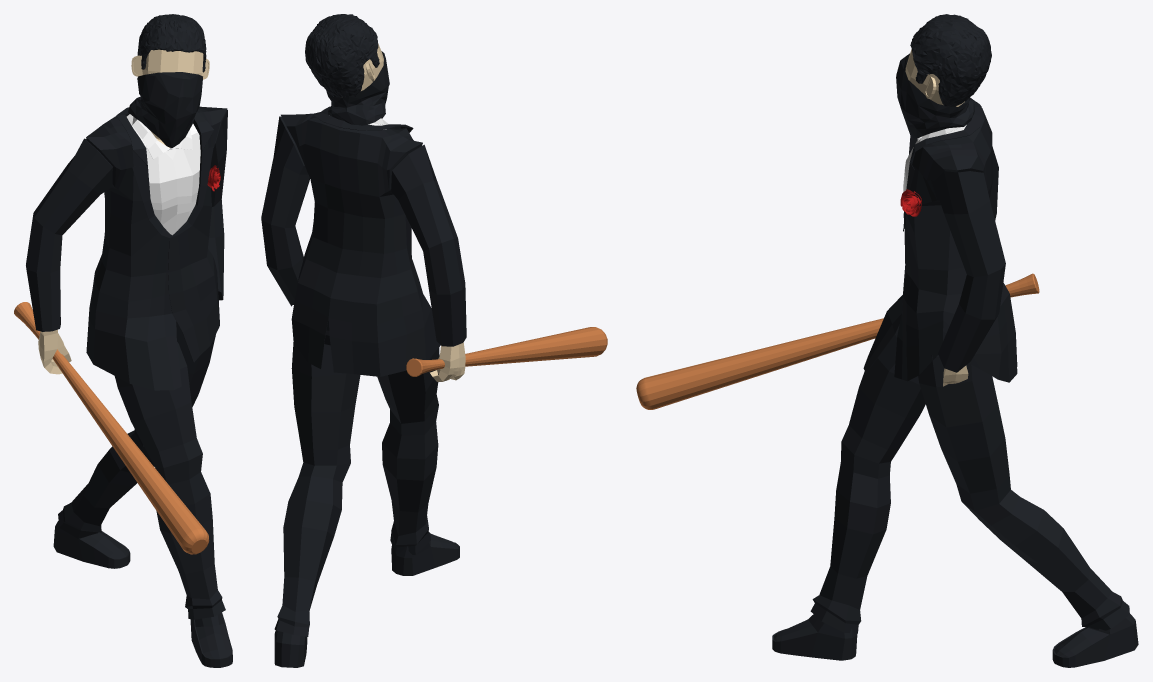
The picture shows the model from 3 angles, left to right: view 1: azimuth 30°, elevation 25°; view 2: azimuth 150°, elevation 25°; view 3: azimuth 270°, elevation 25°; orthographic projection. The views are drawn at different scales.
Parts seen in each view (by area): view 1: suit_Cube.014, Cube.012_Cube.016, head_hand_foot_Cube.013, Cylinder, shirt_Cube.015, mask_Cube.018, hair_Cube.019; view 2: suit_Cube.014, Cube.012_Cube.016, hair_Cube.019, head_hand_foot_Cube.013, Cylinder, mask_Cube.018; view 3: Cube.012_Cube.016, suit_Cube.014, Cylinder, head_hand_foot_Cube.013, hair_Cube.019, mask_Cube.018.
Part boxes in pixels (<box>): suit_Cube.014: <box>26,106,227,390</box>; Cube.012_Cube.016: <box>58,300,225,619</box>; head_hand_foot_Cube.013: <box>38,49,232,667</box>; Cylinder: <box>14,302,209,554</box>; shirt_Cube.015: <box>126,114,200,235</box>; mask_Cube.018: <box>128,72,202,148</box>; hair_Cube.019: <box>137,14,206,72</box>; suit_Cube.014: <box>261,106,466,376</box>; Cube.012_Cube.016: <box>274,320,439,636</box>; hair_Cube.019: <box>305,14,379,97</box>; head_hand_foot_Cube.013: <box>274,43,465,667</box>; Cylinder: <box>406,327,607,376</box>; mask_Cube.018: <box>326,51,389,125</box>; Cube.012_Cube.016: <box>810,326,1129,633</box>; suit_Cube.014: <box>863,98,1017,382</box>; Cylinder: <box>636,273,1039,409</box>; head_hand_foot_Cube.013: <box>772,49,1138,667</box>; hair_Cube.019: <box>910,14,991,106</box>; mask_Cube.018: <box>896,53,974,138</box>.
Bounding box in the file's own units: 0.5882 × 1.67 × 1.18.
